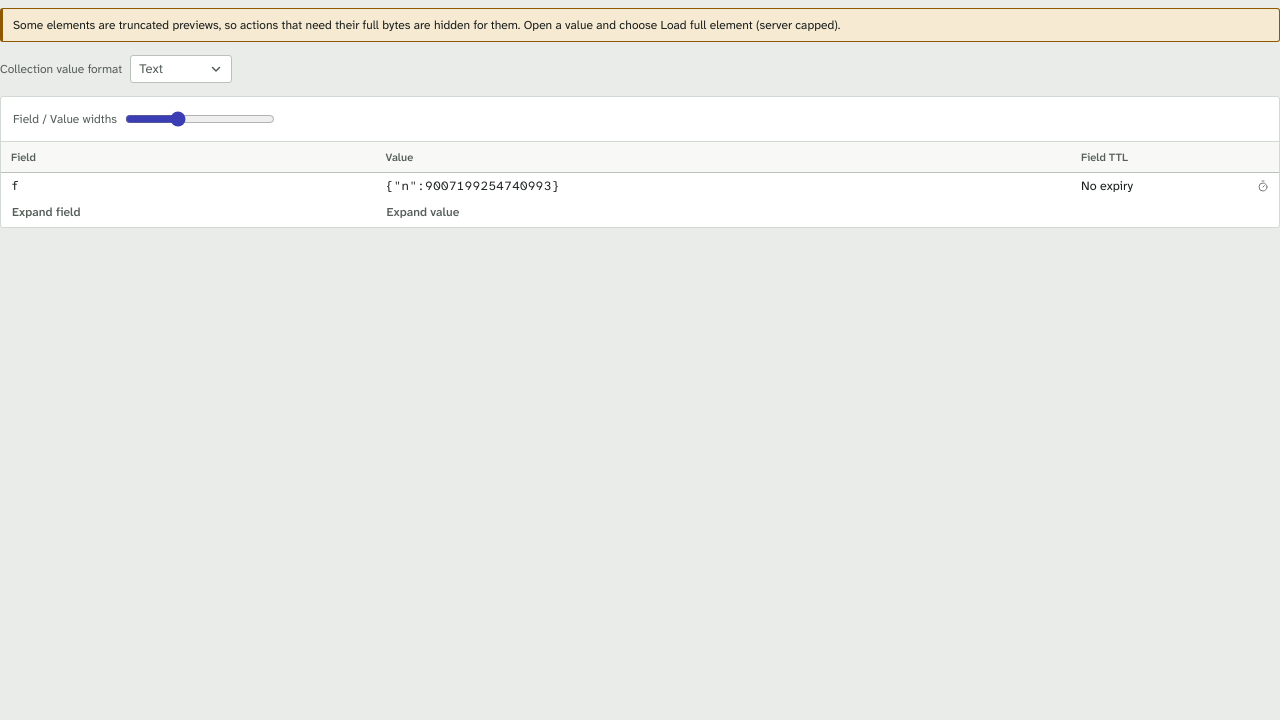
Test: F9 full element retrieval › loads a truncated element through its typed ref and enables full-byte download
The image size is (1280, 720).
Step 1. Click the button with test id "value-cell-open" showing "{\"n\":9007199254740993}" → (472, 186), box left=386, top=176, right=1061, bottom=196
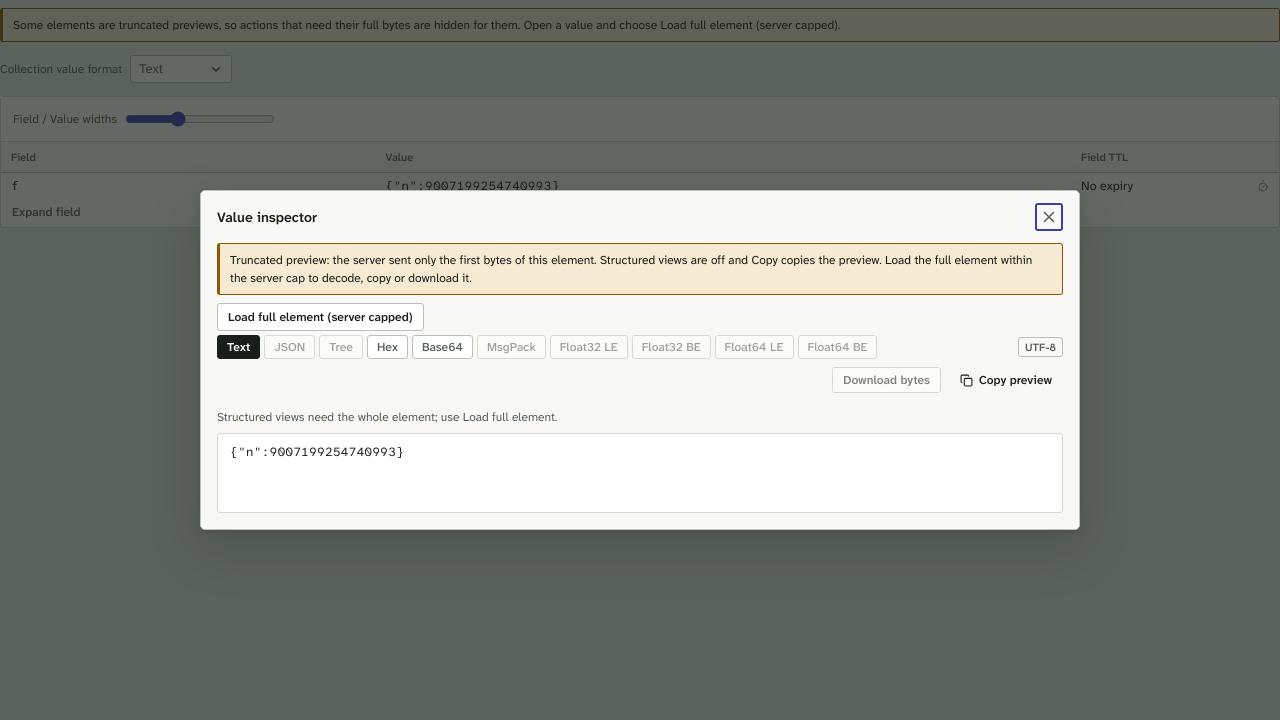
Now the button "Download bytes" is disabled, box left=832, top=367, right=941, bottom=393
Step 2. Click the button "Load full element (server capped)" → (320, 317), box left=217, top=303, right=424, bottom=331
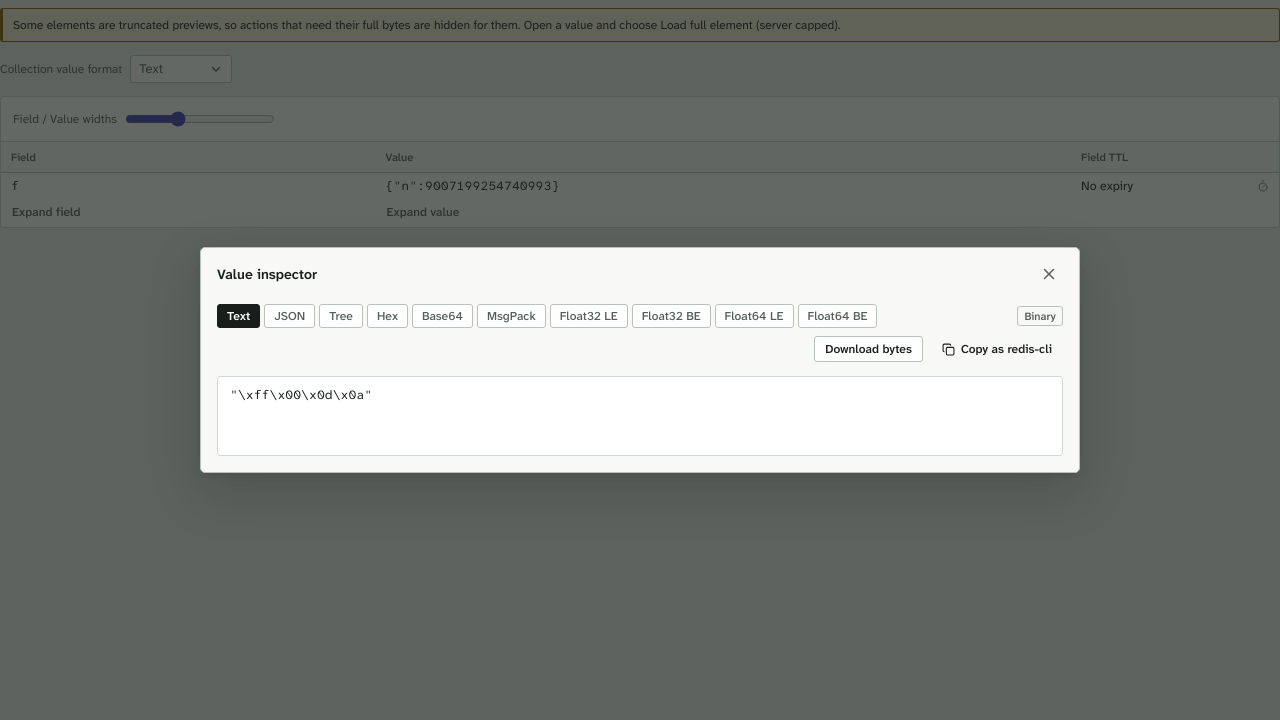
Now the button "Download bytes" is enabled, box left=814, top=336, right=923, bottom=362
Now the text "Truncated preview:" is gone
